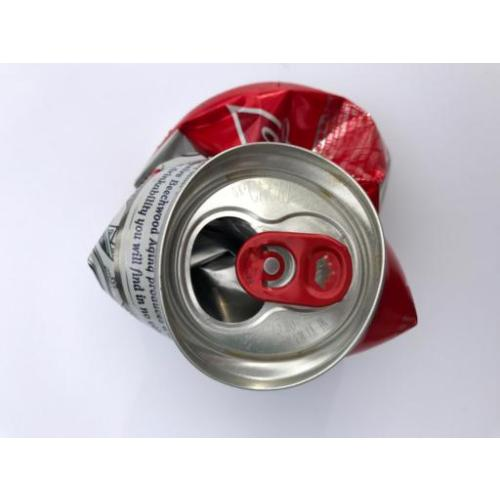metal: (92, 82, 417, 385)
